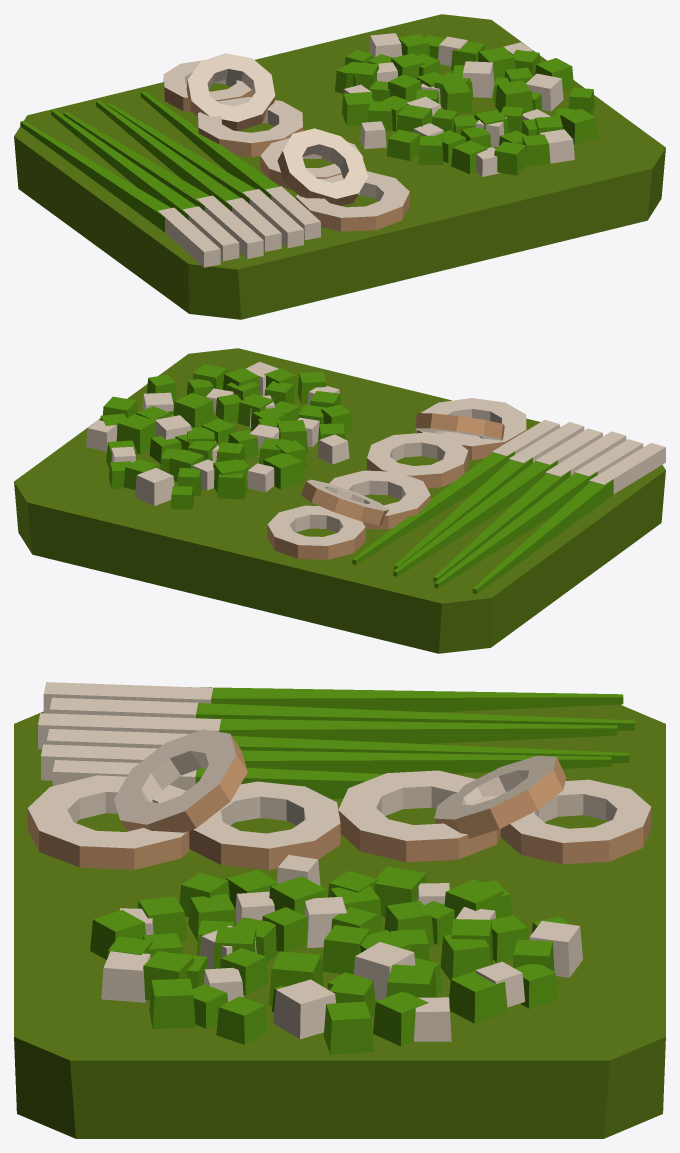
File: SM_Cook_OnionPile_01.fbx
The picture shows the model from 3 angles, top to bottom: view 1: azimuth 30°, elevation 25°; view 2: azimuth 150°, elevation 25°; view 3: azimuth 270°, elevation 25°; orthographic projection. The views are drawn at different scales.
Parts seen in each view (by area): view 1: SM_Cook_OnionPile_01; view 2: SM_Cook_OnionPile_01; view 3: SM_Cook_OnionPile_01.
Part boxes in pixels (bbox=[...]): SM_Cook_OnionPile_01: bbox=[14, 14, 665, 319]; SM_Cook_OnionPile_01: bbox=[14, 348, 665, 653]; SM_Cook_OnionPile_01: bbox=[14, 682, 665, 1138].
Size of the model in its own units: 0.289 by 0.0614 by 0.221.
1 material, 1 textured.
